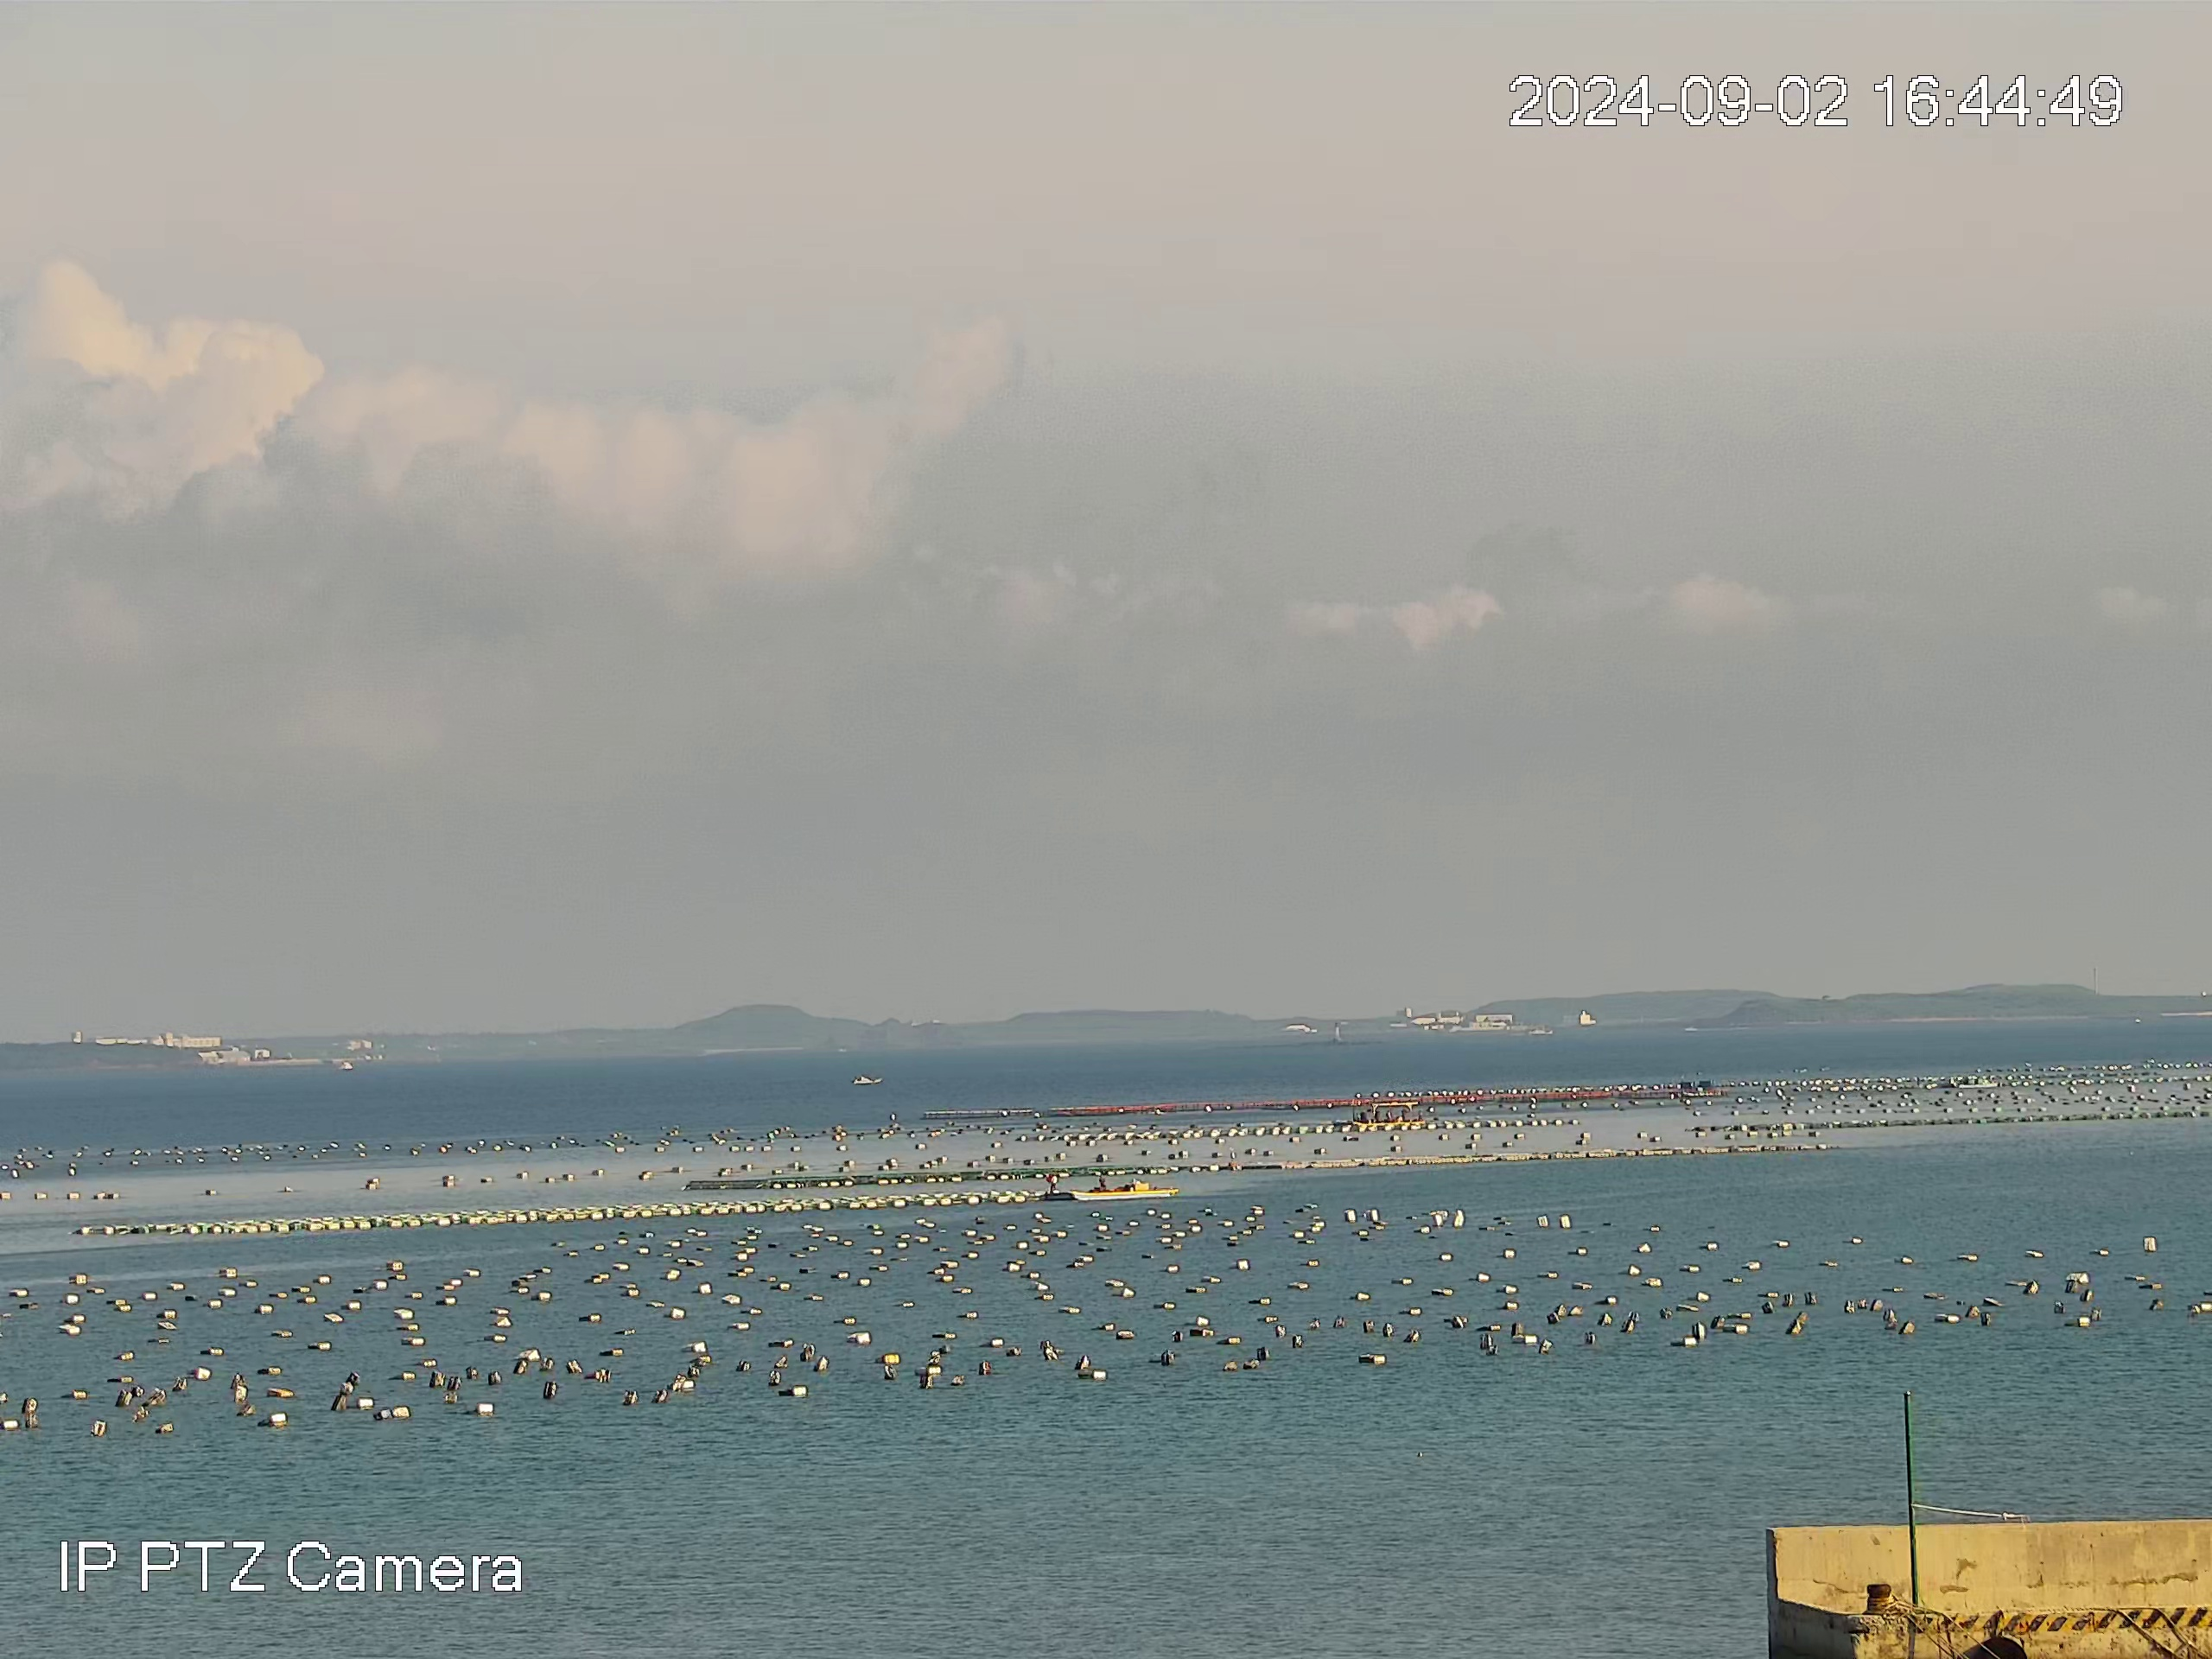boat: (1038, 1171, 1181, 1204), (1348, 1100, 1428, 1127), (1958, 1073, 2000, 1089), (850, 1073, 883, 1086)
